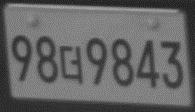3: (159, 39, 184, 89)
4: (134, 39, 160, 88)
8: (34, 34, 59, 84), (110, 37, 135, 87)
9: (10, 34, 33, 82), (85, 36, 107, 84)
더: (58, 44, 84, 85)
